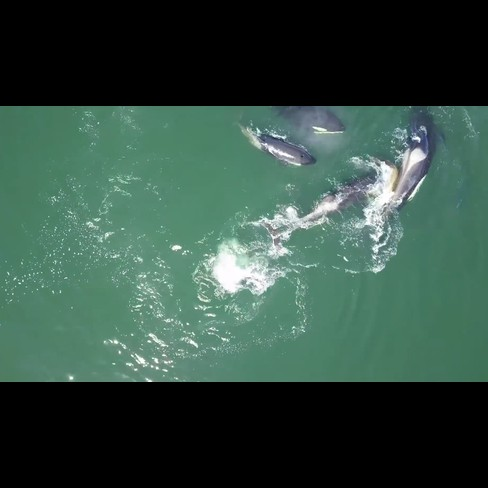orca: (257, 159, 393, 251), (367, 104, 444, 256), (221, 119, 328, 170), (278, 104, 352, 136)
